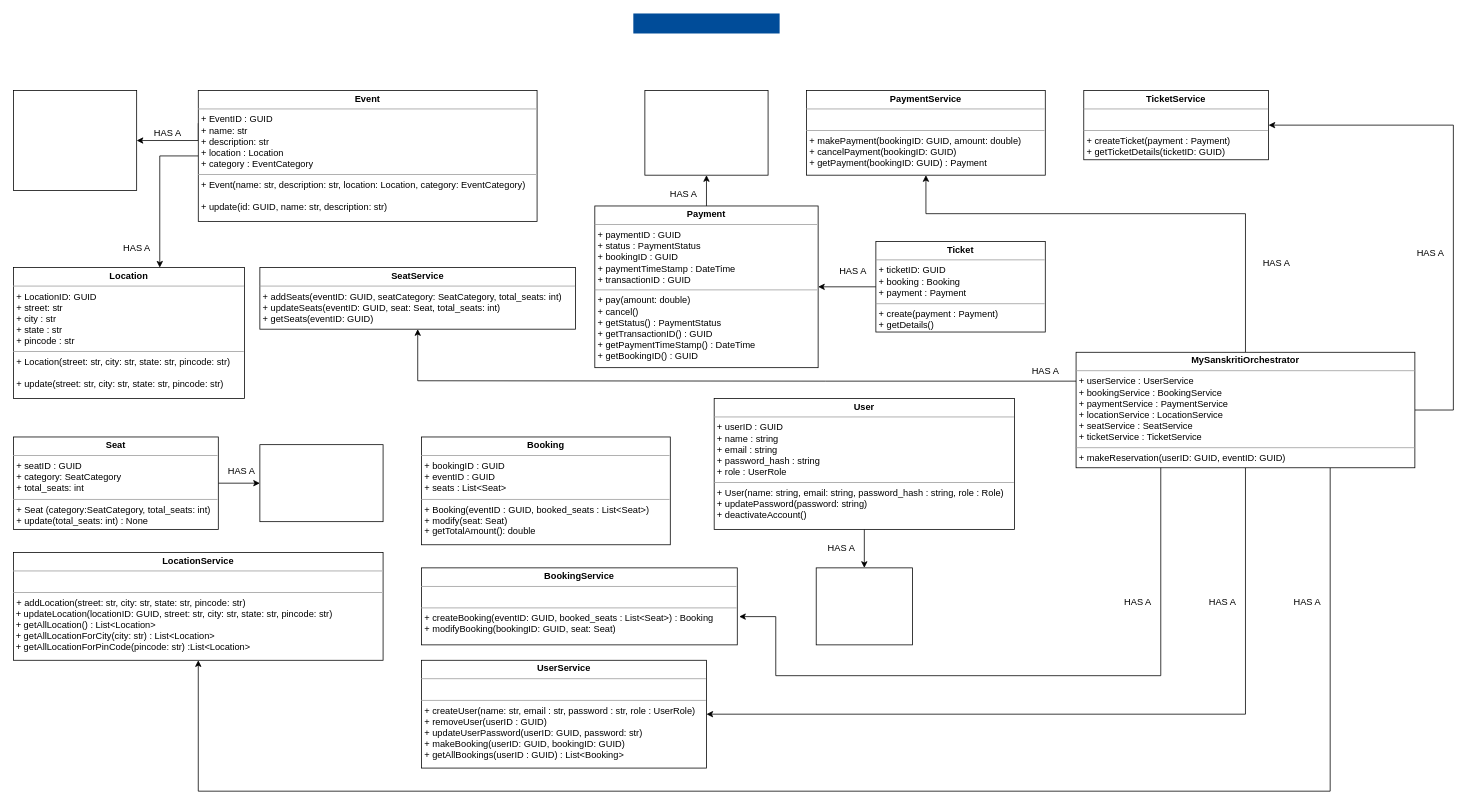
Some shapes in this 1473 by 811 pixel diagram are drawn without their labels. Each missing label, with the centre of its shape:
"EventCategory <<Enum>> + KATHA + PUJA + PRAVACHAN + SATSANG + SPECIAL EVENT" goes at (x=75, y=140).
"MySanskriti" goes at (x=706, y=23).
"PaymentStatus <<Enum>> + SUCCESS + PENDING + FAILED + CANCELLED" goes at (x=706, y=132).
"SeatCategory <<Enum>> + VIP + SPECIAL GUEST + REGULAR" goes at (x=321, y=483).
"UserRole <<Enum>> + ORGANISER + ATTENDEE + ADMIN" goes at (x=863, y=606).
